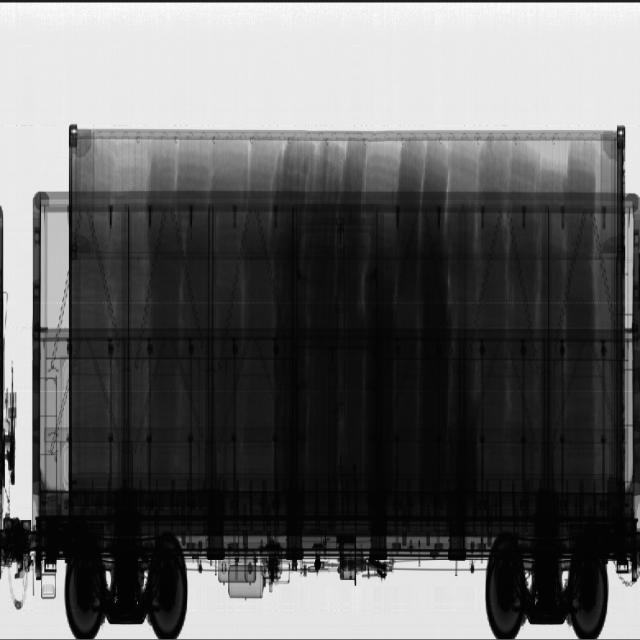fabrics: (49, 141, 617, 468)
